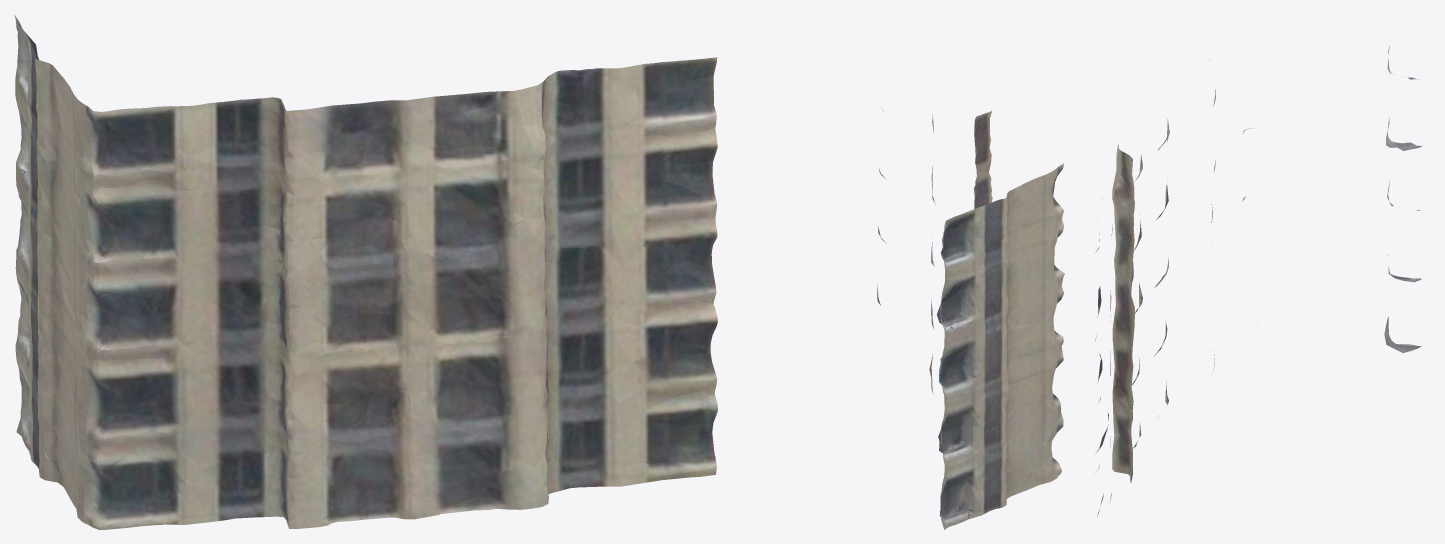
The model's file is Tile_+004_+001_L22_00011000.glb.
3 views of the same model, side by side, from view 1: azimuth 30°, elevation 25°; view 2: azimuth 150°, elevation 25°; view 3: azimuth 270°, elevation 25° (orthographic). The views are drawn at different scales.
Parts seen in each view (by area): view 1: rtc; view 2: rtc; view 3: rtc.
Boxes of the visible parts, box(x1,y1,x2,y2) form: rtc: box(14, 14, 717, 529); rtc: box(877, 107, 1064, 529); rtc: box(1095, 46, 1423, 515).
Size of the model in its own units: 13.88 by 10.57 by 10.09.
1 material, 1 textured.
